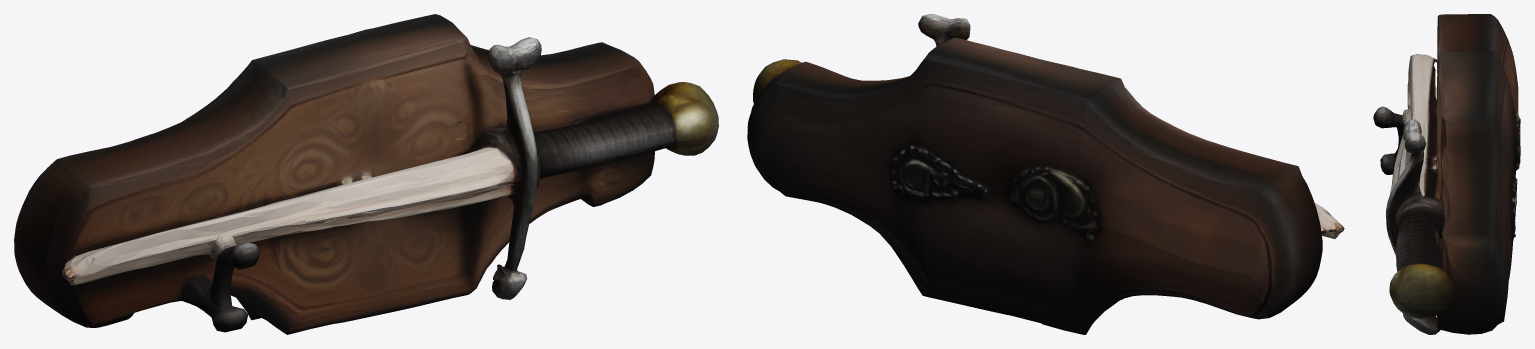
3 renders of one model, left to right at view 1: azimuth 30°, elevation 25°; view 2: azimuth 150°, elevation 25°; view 3: azimuth 270°, elevation 25°, orthographic. The views are drawn at different scales.
Parts seen in each view (by area): view 1: world; view 2: world; view 3: world.
Boxes of the visible parts, bbox=[...] form: world: bbox=[14, 14, 718, 334]; world: bbox=[747, 14, 1344, 334]; world: bbox=[1373, 14, 1520, 334].
Size of the model in its own units: 0.9994 by 0.3913 by 0.2508.
1 material, 1 textured.
